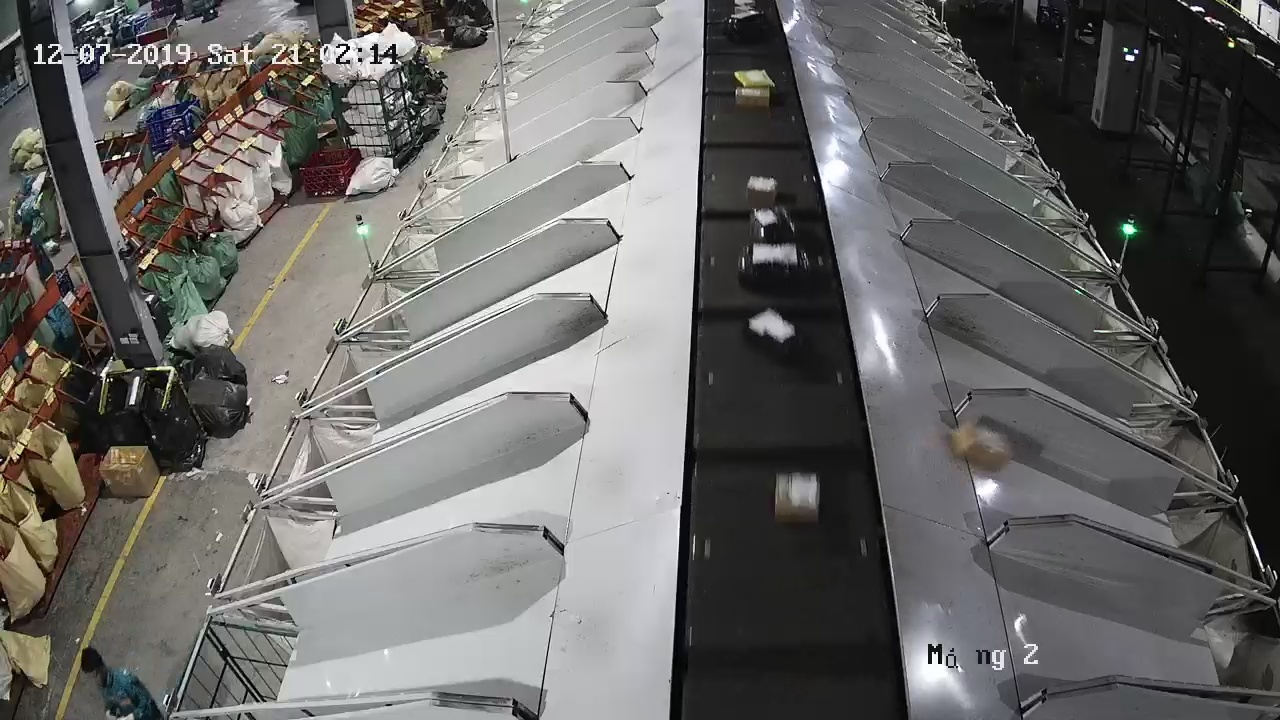parcel: (949, 420, 1014, 472)
